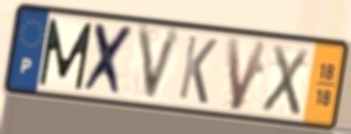K: (176, 32, 220, 107)
M: (37, 16, 95, 92)
V: (135, 23, 186, 107), (224, 35, 271, 114)
X: (80, 20, 138, 100), (259, 41, 311, 119)
